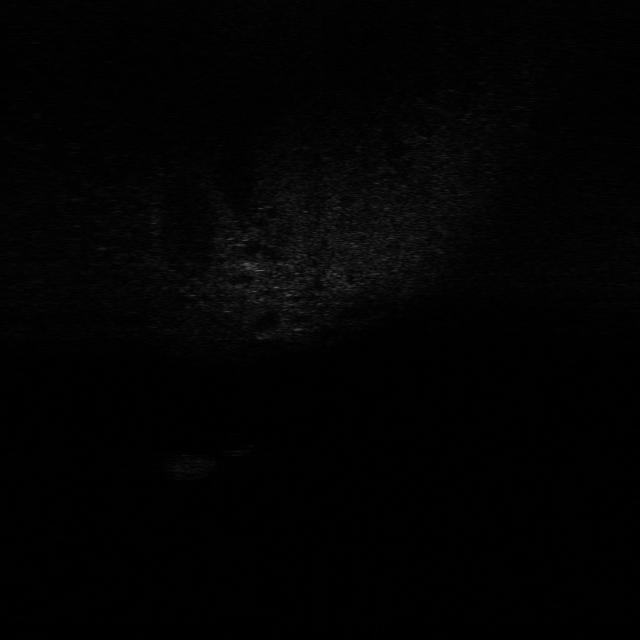ball: (216, 430, 262, 458)
circle cage: (152, 448, 227, 482)
